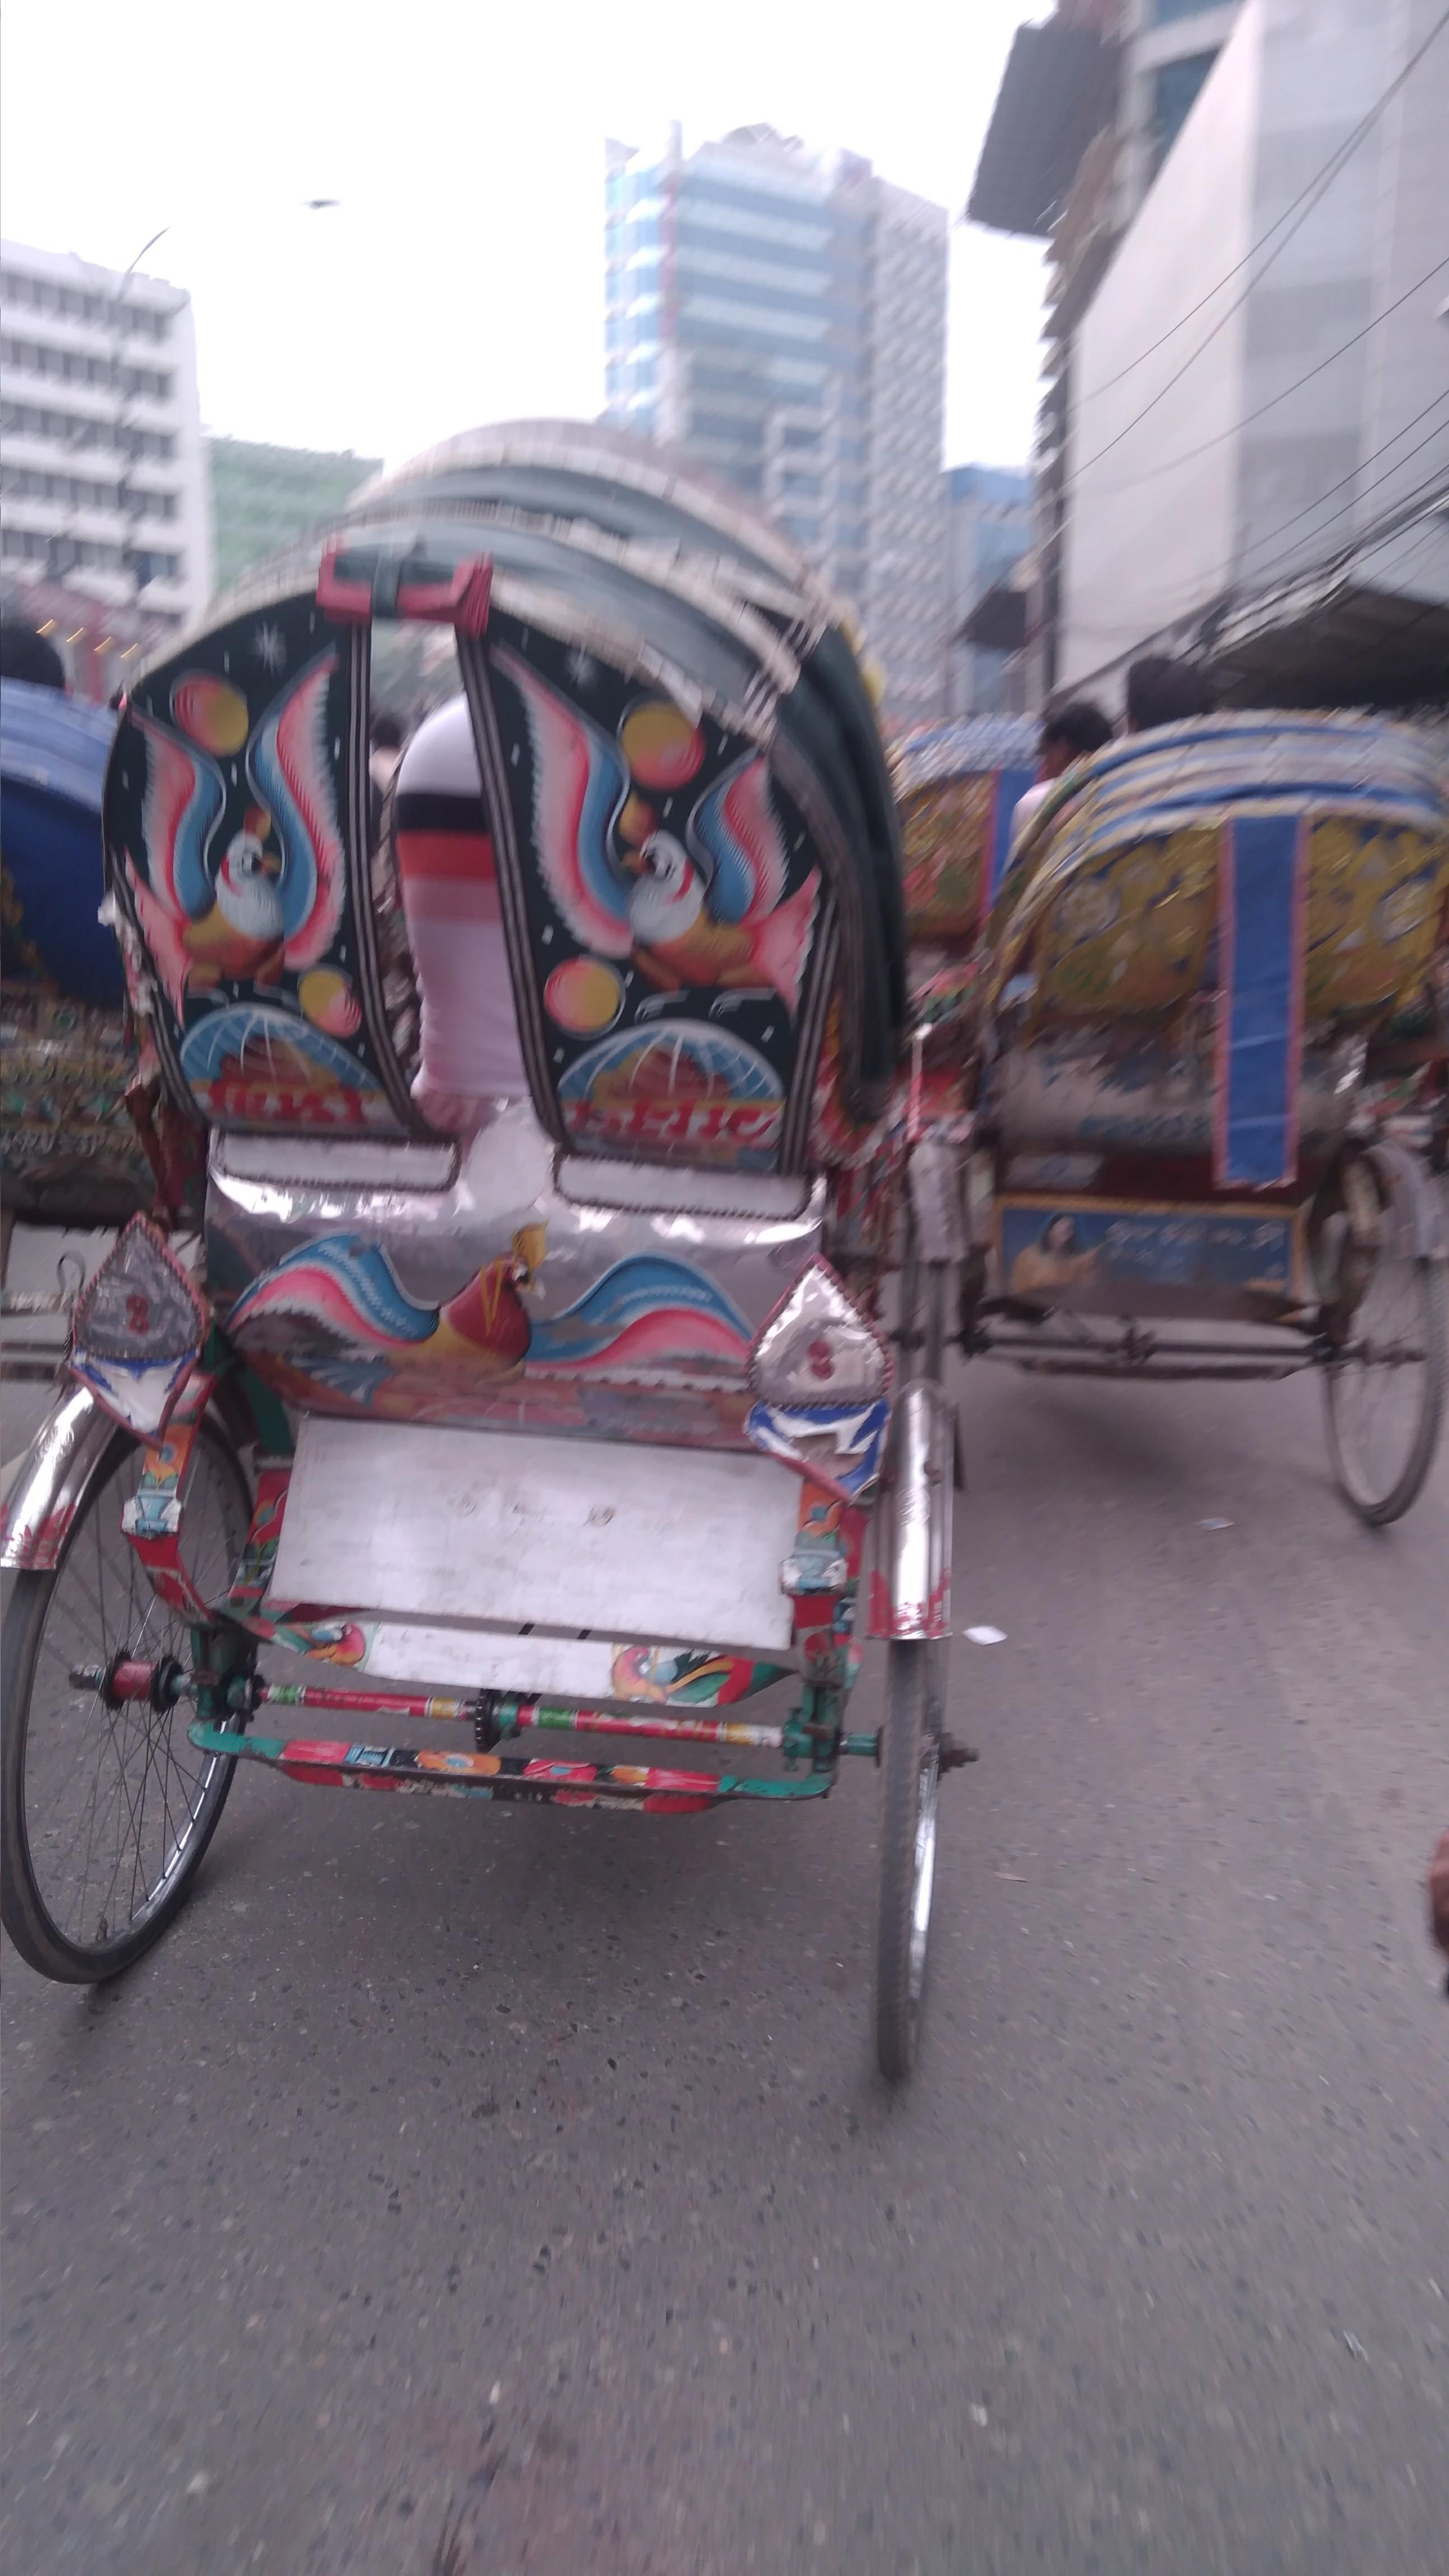Rickshaw: (35, 419, 1003, 2111), (934, 706, 1447, 1507)
